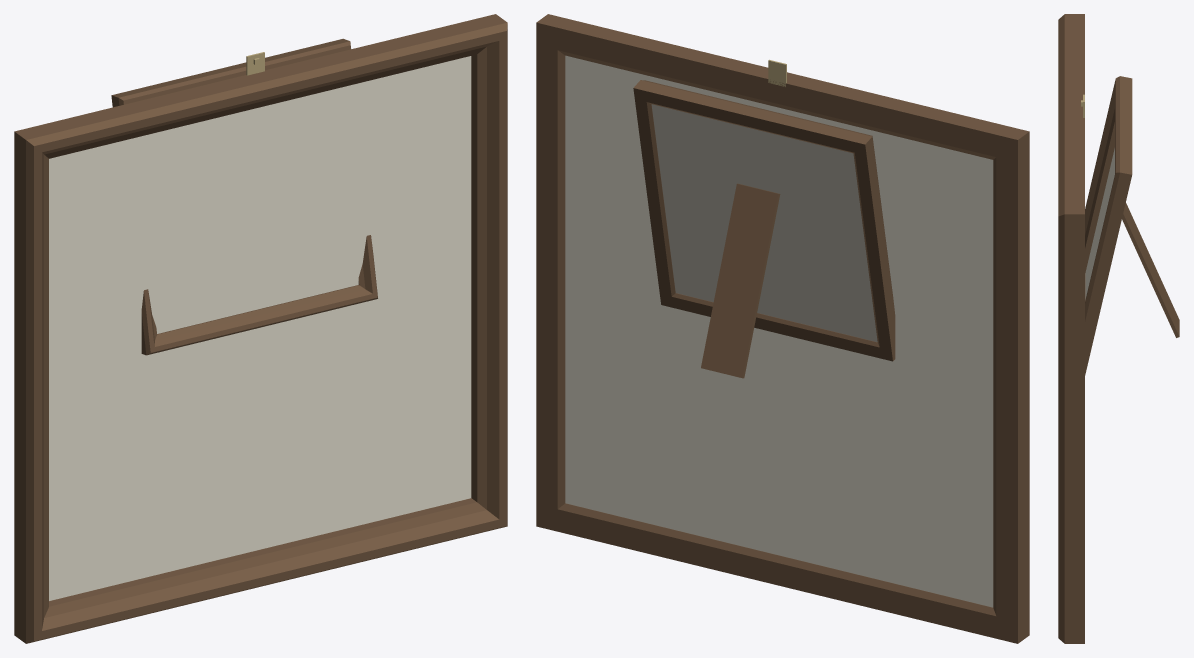
File: memory_art_frames.glb
The picture shows the model from 3 angles, left to right: view 1: azimuth 30°, elevation 25°; view 2: azimuth 150°, elevation 25°; view 3: azimuth 270°, elevation 25°; orthographic projection. The views are drawn at different scales.
Parts seen in each view (by area): view 1: MemoryWall__Mount_ON_paper, MemoryWall__Moulding_ON_wood, MemoryTable__Moulding_ON_wood; view 2: MemoryWall__Mount_ON_paper, MemoryWall__Moulding_ON_wood, MemoryTable__Mount_ON_paper, MemoryTable__Moulding_ON_wood; view 3: MemoryWall__Moulding_ON_wood, MemoryTable__Moulding_ON_wood, MemoryTable__Mount_ON_paper.
Boxes of the visible parts, left/top/right/bottom form: MemoryWall__Mount_ON_paper: left=49, top=56, right=471, bottom=600; MemoryWall__Moulding_ON_wood: left=14, top=14, right=507, bottom=643; MemoryTable__Moulding_ON_wood: left=111, top=38, right=377, bottom=355; MemoryWall__Mount_ON_paper: left=565, top=55, right=993, bottom=607; MemoryWall__Moulding_ON_wood: left=536, top=14, right=1029, bottom=643; MemoryTable__Mount_ON_paper: left=651, top=104, right=877, bottom=342; MemoryTable__Moulding_ON_wood: left=633, top=80, right=895, bottom=378; MemoryWall__Moulding_ON_wood: left=1058, top=14, right=1084, bottom=643; MemoryTable__Moulding_ON_wood: left=1085, top=76, right=1179, bottom=375; MemoryTable__Mount_ON_paper: left=1085, top=148, right=1114, bottom=299.
Size of the model in its own units: 0.81 by 0.84 by 0.2067.
